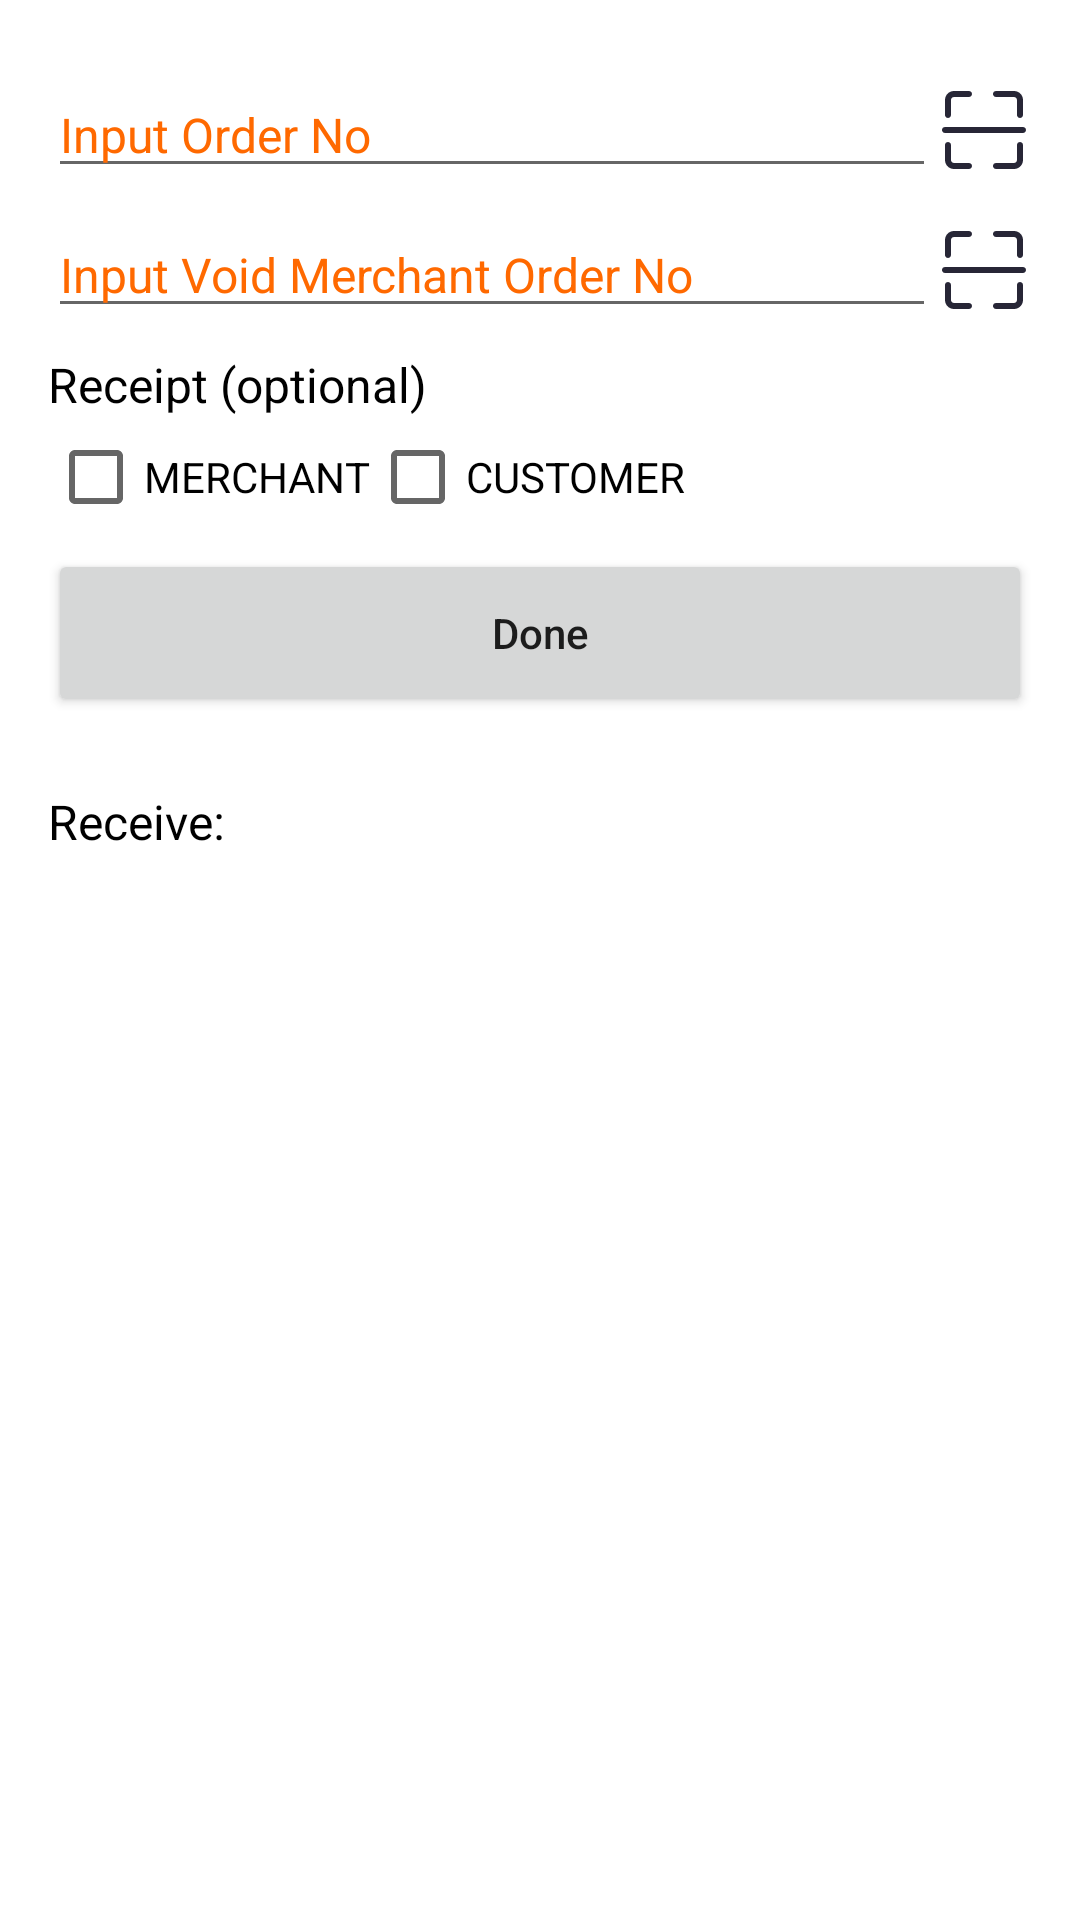

Point at icon controls on the screen. Image size 1080px×1920px, points as [x,y].
widget scan: [984,130], [984,270]
